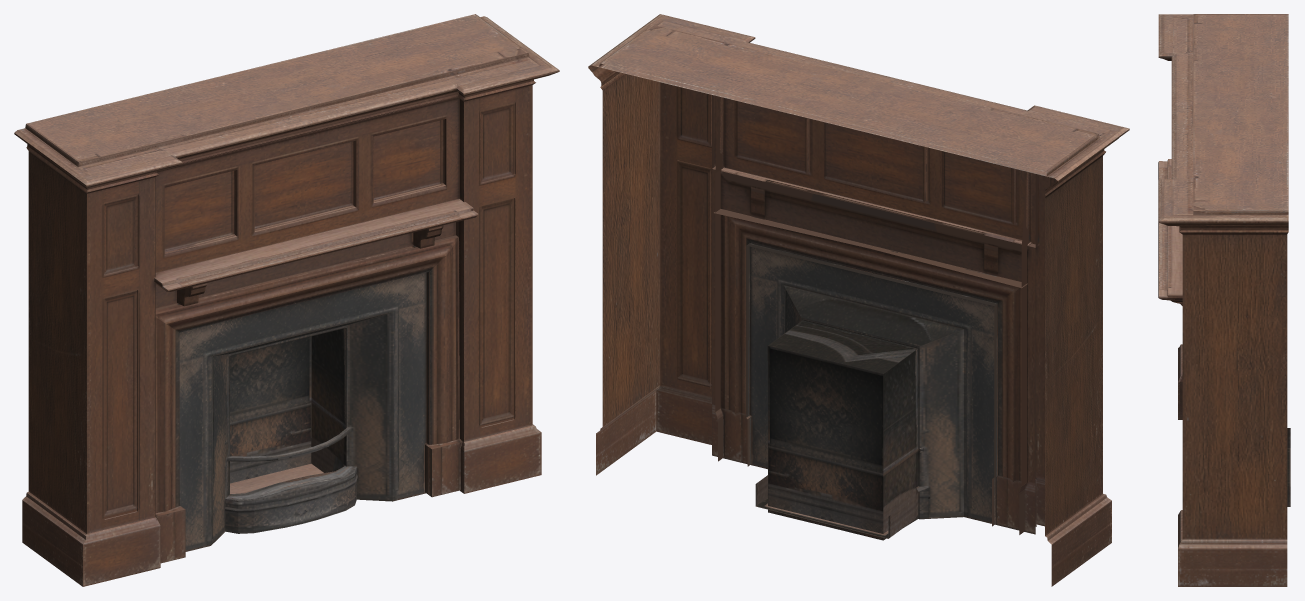
The model's file is Fireplace.fbx.
3 views of the same model, side by side, from view 1: azimuth 30°, elevation 25°; view 2: azimuth 150°, elevation 25°; view 3: azimuth 270°, elevation 25° (orthographic). The views are drawn at different scales.
Visible parts, largest first — view 1: Fireplace_Low; view 2: Fireplace_Low; view 3: Fireplace_Low.
Part boxes in pixels (bbox=[...]): Fireplace_Low: bbox=[14, 14, 559, 586]; Fireplace_Low: bbox=[588, 14, 1129, 586]; Fireplace_Low: bbox=[1158, 14, 1290, 586].
Bounding box in the file's own units: 2.01 × 1.69 × 0.5416.
